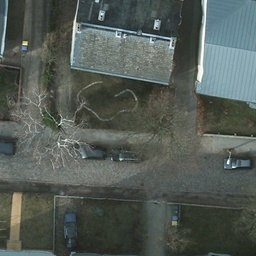car: (60, 214, 81, 249), (109, 147, 145, 165), (222, 153, 255, 171)
van: (0, 138, 12, 153)
